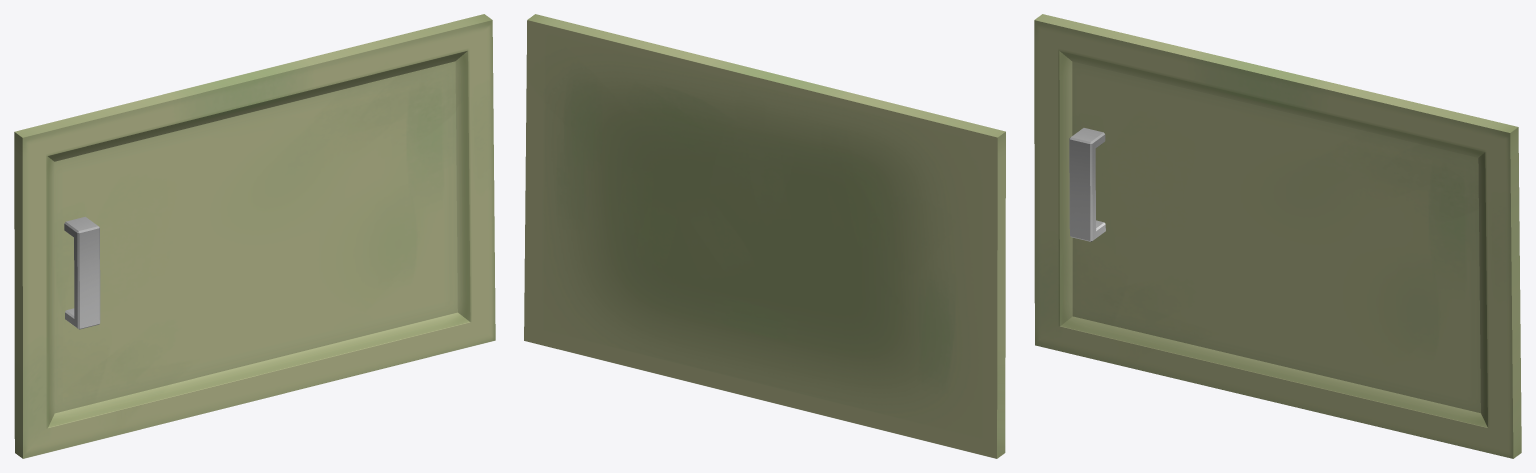
The model's file is CounterDoor.fbx.
The picture shows the model from 3 angles, left to right: view 1: azimuth 30°, elevation 25°; view 2: azimuth 150°, elevation 25°; view 3: azimuth 330°, elevation 25°; orthographic projection.
Visible parts, largest first — view 1: CounterDoor; view 2: CounterDoor; view 3: CounterDoor.
Part boxes in pixels (bbox=[...]): CounterDoor: bbox=[14, 14, 495, 458]; CounterDoor: bbox=[524, 14, 1005, 458]; CounterDoor: bbox=[1034, 14, 1521, 458].
Size of the model in its own units: 99.38 by 65.06 by 7.04.
